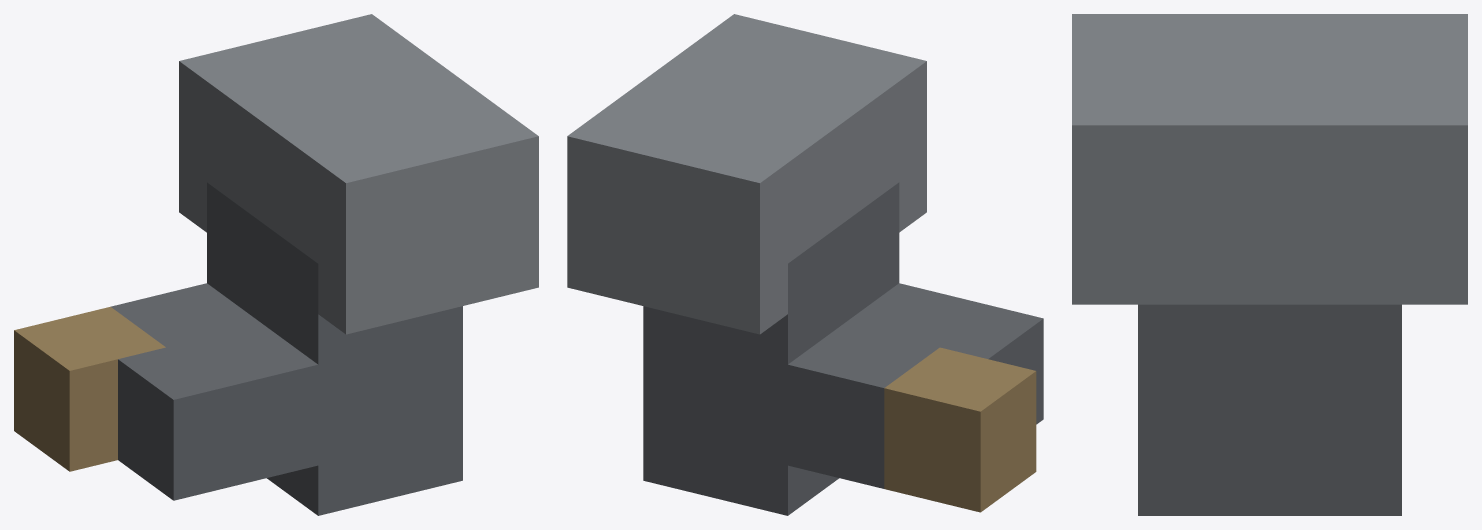
Rendered from right_arm.glb.
3 renders of one model, left to right at view 1: azimuth 30°, elevation 25°; view 2: azimuth 150°, elevation 25°; view 3: azimuth 270°, elevation 25°, orthographic. The views are drawn at different scales.
Size of the model in its own units: 8 by 7 by 6.
